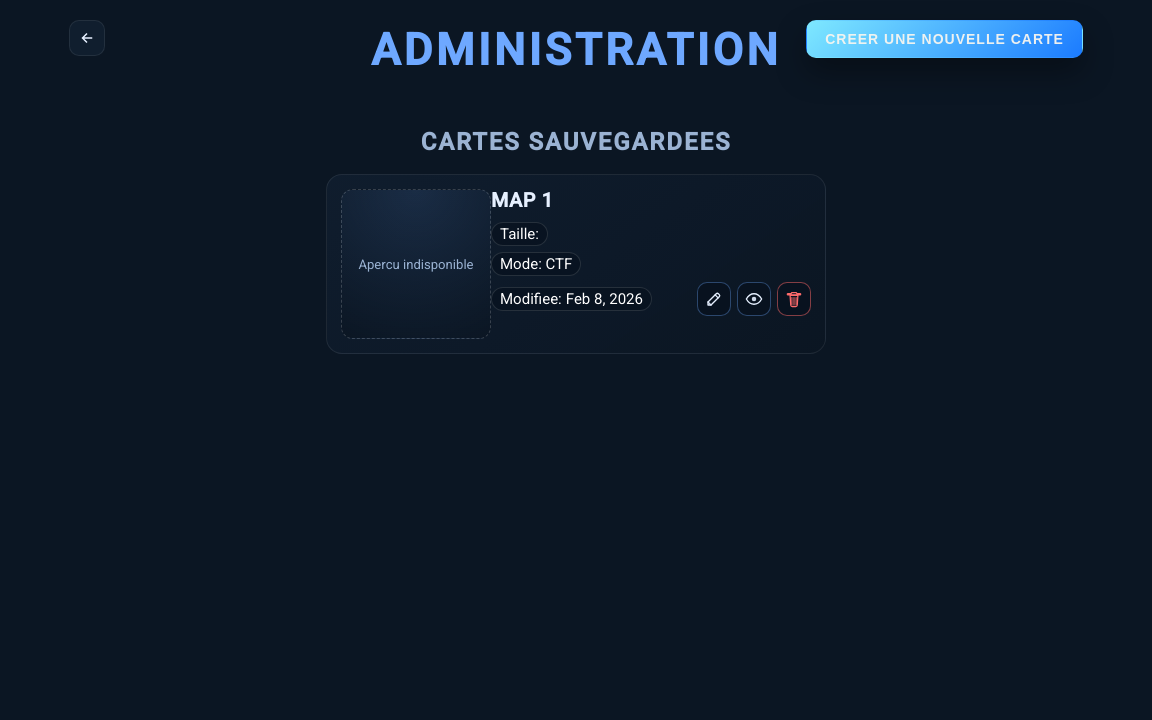
Scenario: AdminPageComponent › should open and close delete dialog
The image size is (1152, 720).
Expected: the element that starts with "Apercu indisponible" is shown, [326,174,826,354]
What coordinates should you click on to do the following:
click the button named "Supprimer"
I would click on:
 (794, 299)
Its box is [777,282,811,316].
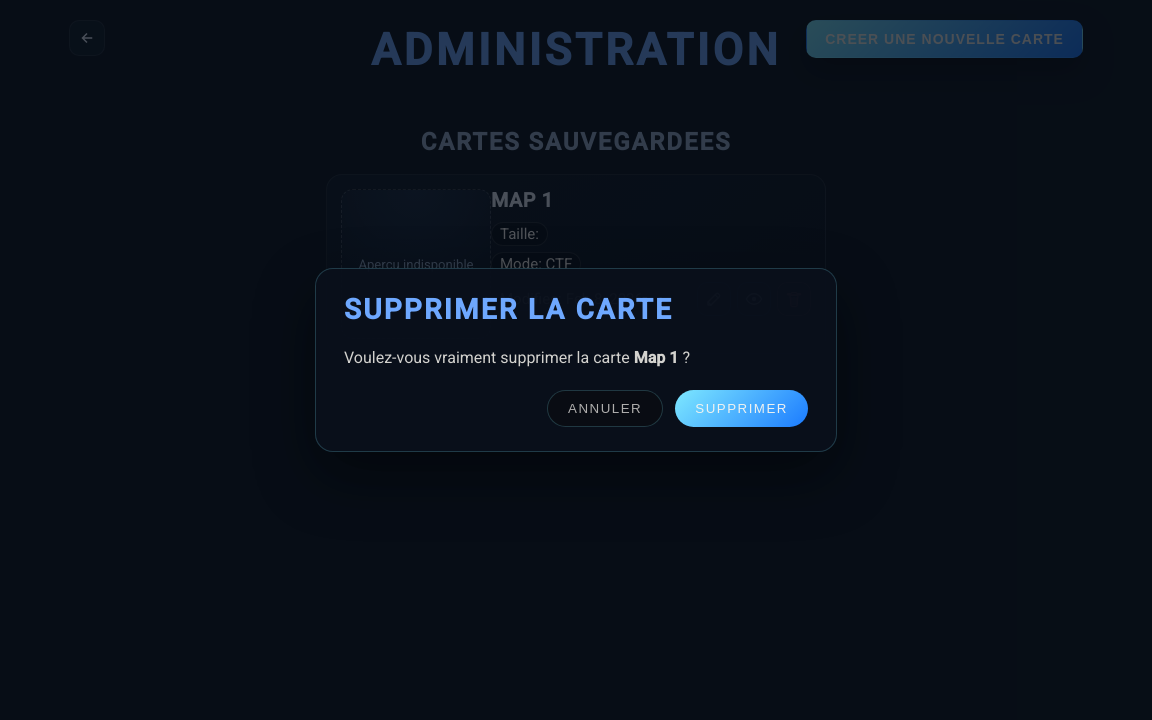
Expected: the dialog shows "Map 1", [634,348,678,367]
Expected: the dialog is shown, [315,268,837,452]
Expected: the button "Annuler" is shown
What coordinates should you click on to do the following:
click the button "Annuler"
I would click on:
 (605, 408)
Its box is [547,390,663,427].
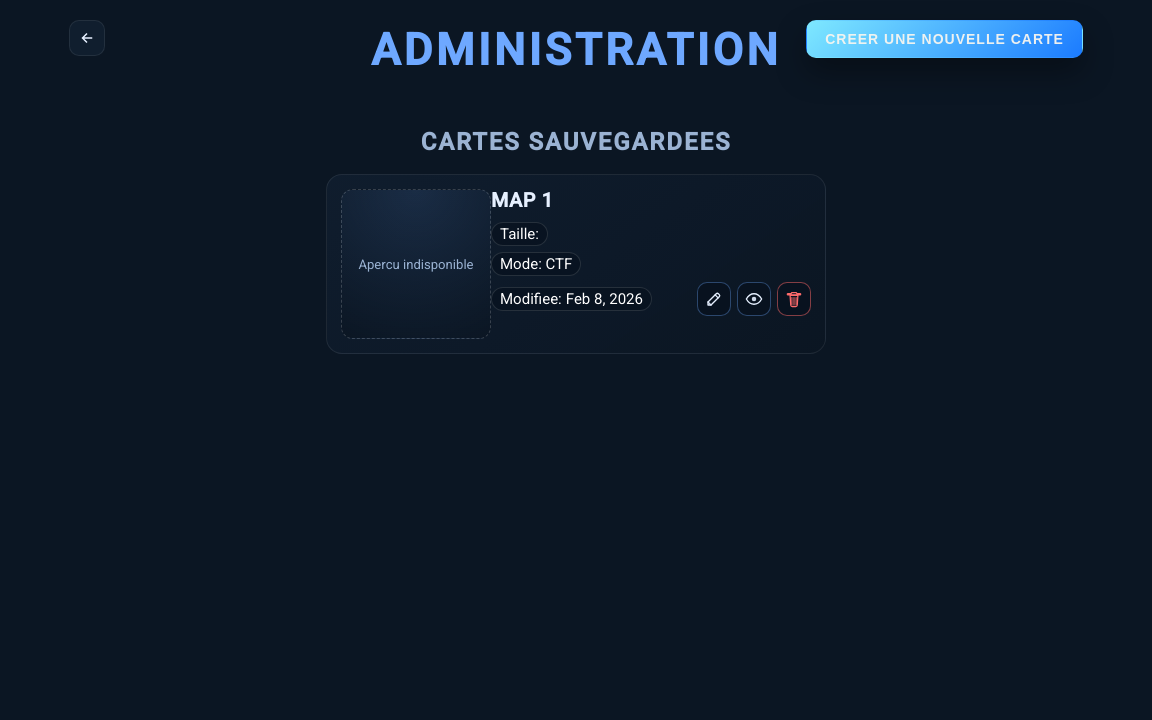
Expected: the dialog is gone
